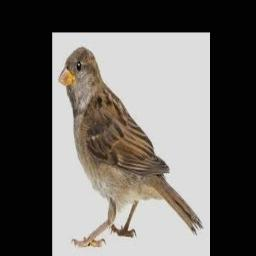Sparrow: (58, 47, 203, 247)
